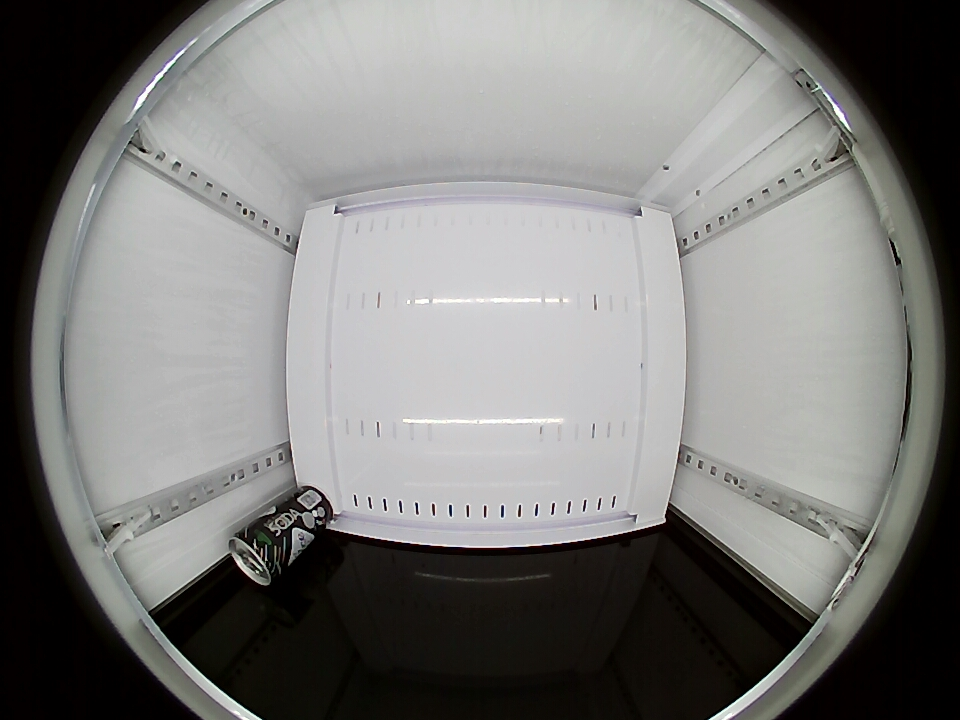qingdaowangzi-1: (228, 523, 288, 586)
